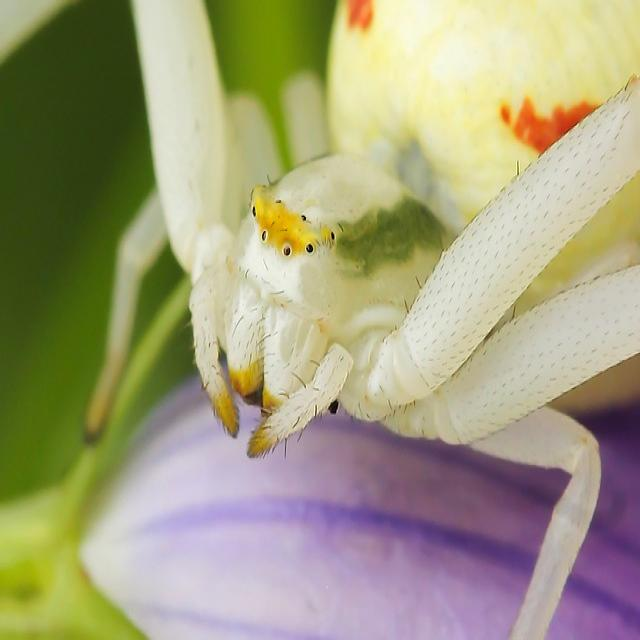spyder: (84, 0, 640, 640), (471, 408, 601, 639)
